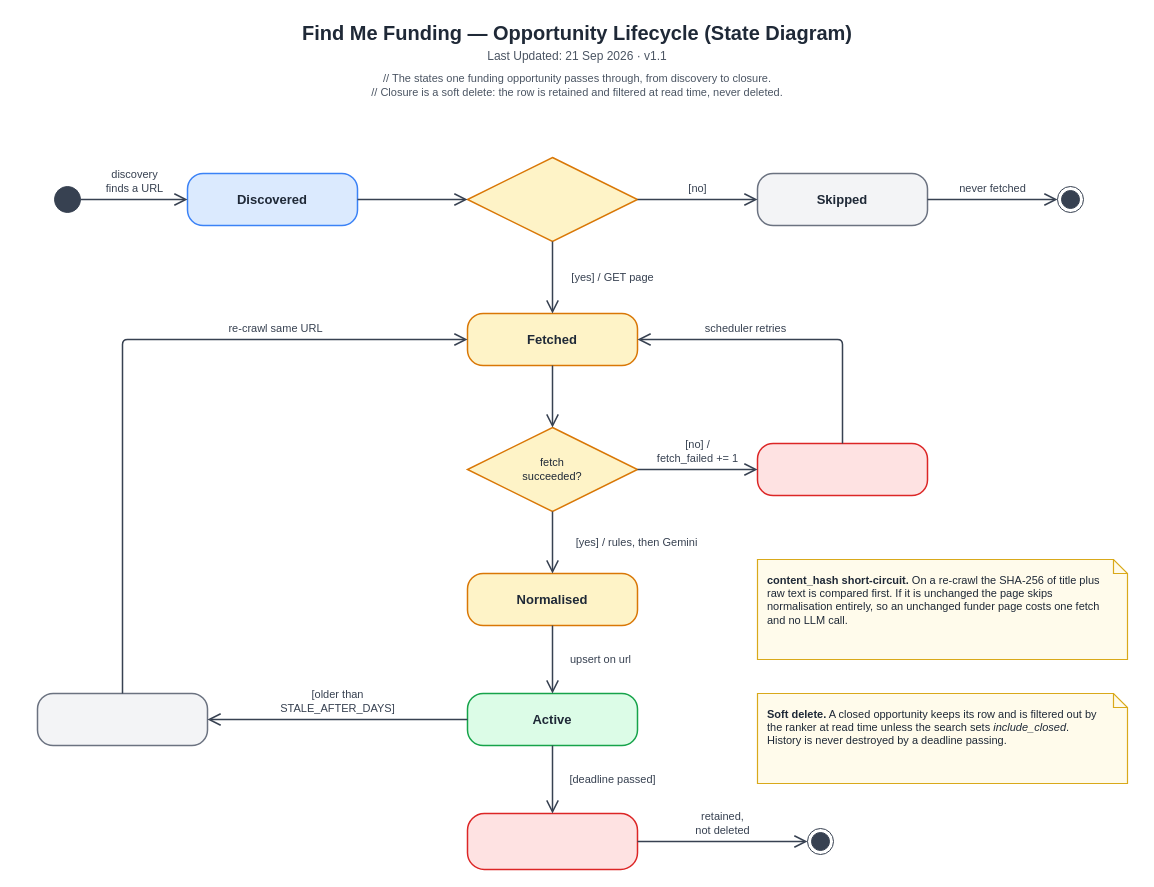
The diagram is 1154 pixels wide and 887 high, and some of its shapes have lost their labels. Each missing label, with the centre of its shape:
Closed status = closed: the point at 552,841
Fetch Failed: the point at 842,469
robots.txt allows?: the point at 552,199
Stale: the point at 122,719
